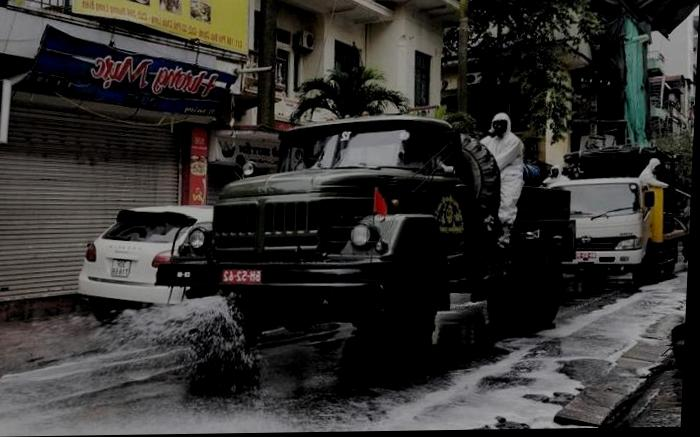License_Plate: (219, 267, 264, 287)
